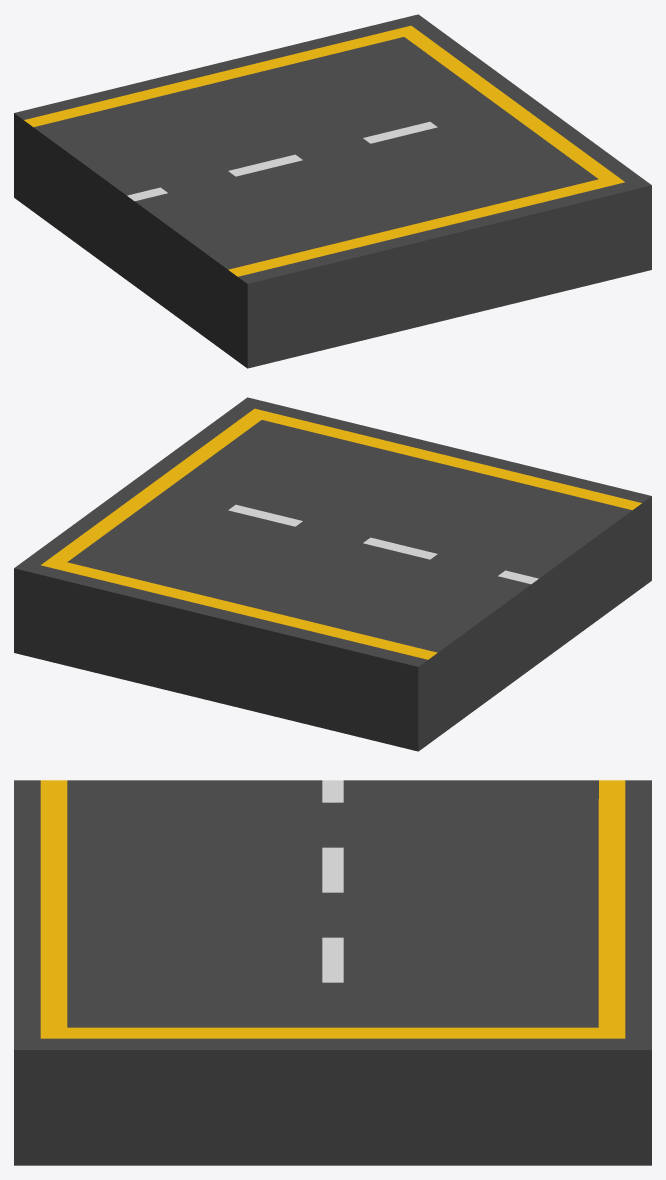
File: dead_end_road.fbx
3 views of the same model, one above another, from view 1: azimuth 30°, elevation 25°; view 2: azimuth 150°, elevation 25°; view 3: azimuth 270°, elevation 25° (orthographic). The views are drawn at different scales.
Parts seen in each view (by area): view 1: Cube; view 2: Cube; view 3: Cube.
Boxes of the visible parts, x1,y1,x2,y2 form: Cube: (14,14,651,368); Cube: (14,397,651,751); Cube: (14,780,651,1165).
Bounding box in the file's own units: 100 × 20 × 100.
